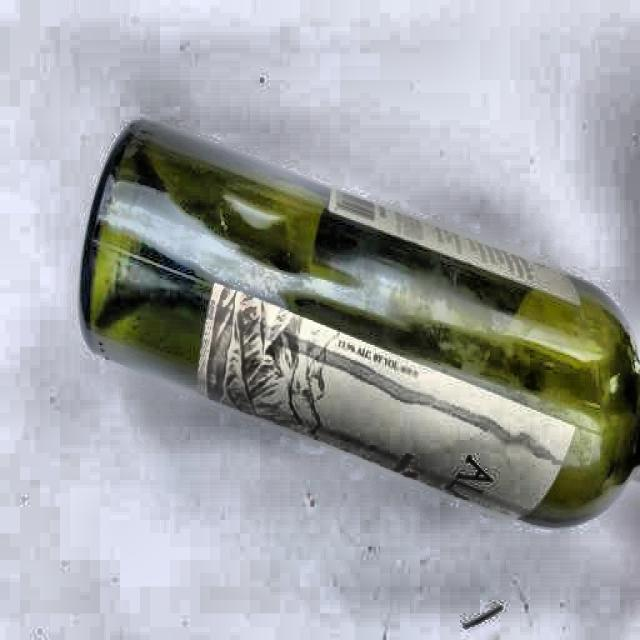glass: (75, 101, 640, 535)
